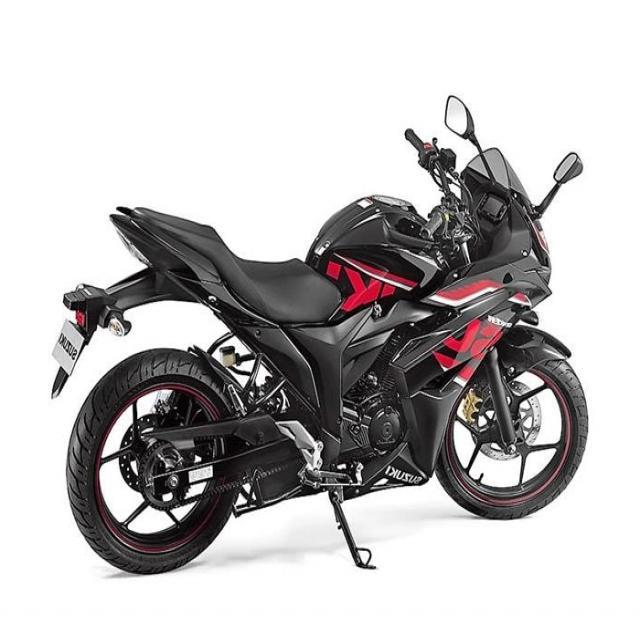Motorbike: (28, 62, 611, 608)
